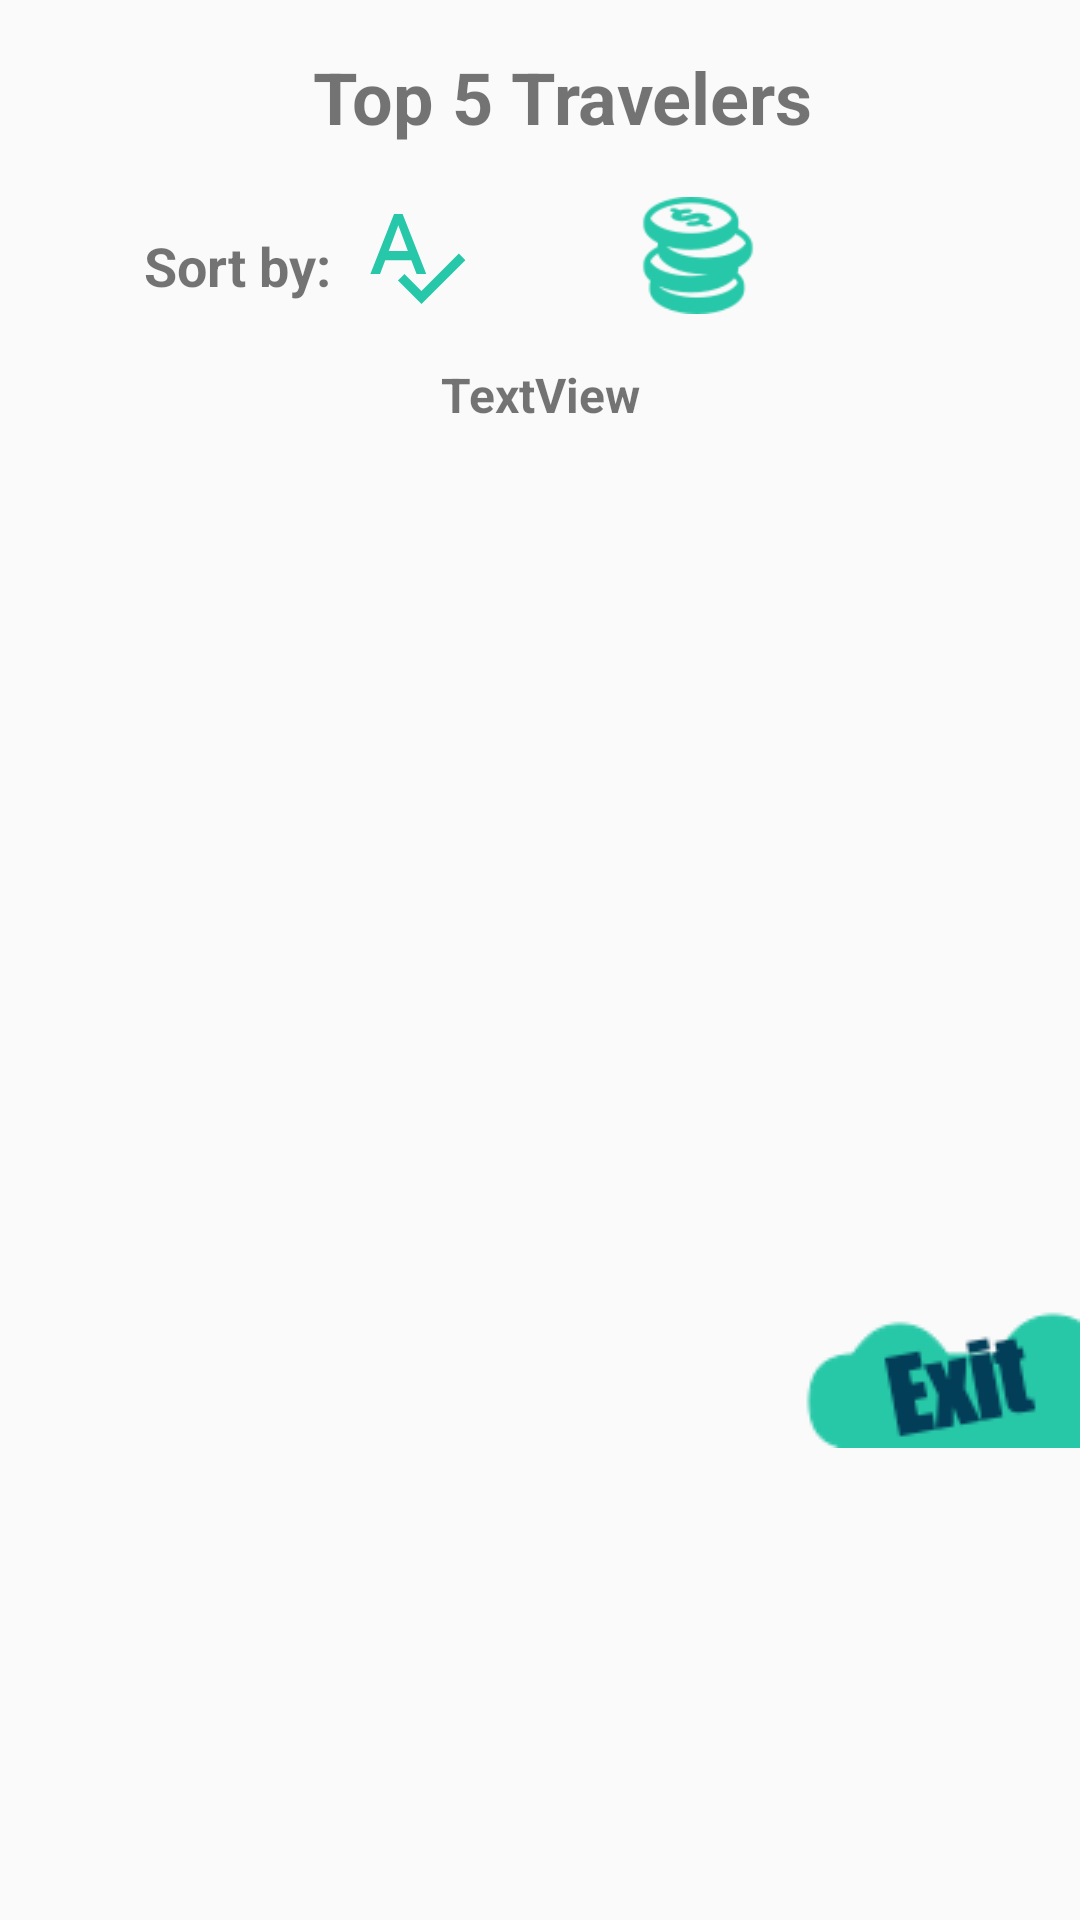

Where icons sit on this 1080w x 1920h app screen, as (x1, y1, x2, y2):
money: (643, 197, 753, 314)
spellcheck: (370, 214, 466, 304)
